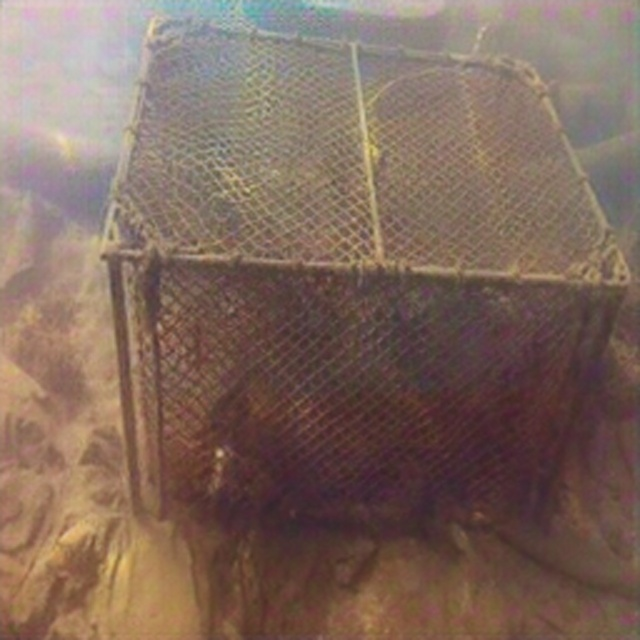mine: (99, 13, 631, 523)
